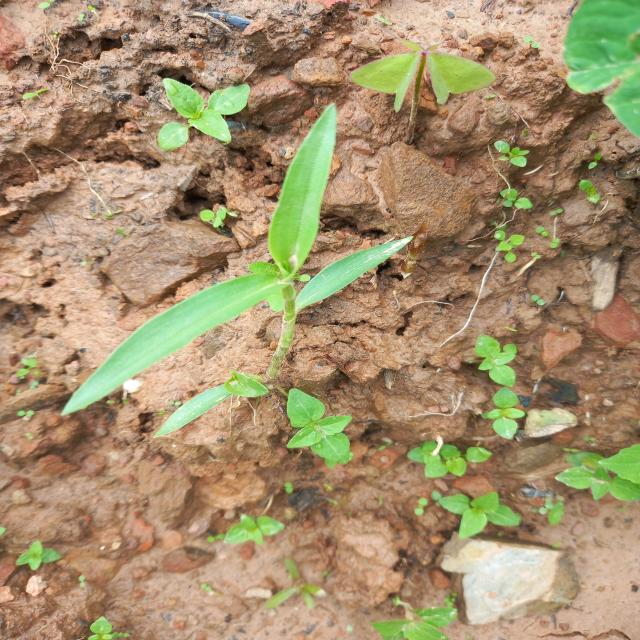maize: (63, 82, 376, 418)
weed: (340, 24, 507, 149), (146, 66, 268, 150), (278, 374, 362, 473), (430, 490, 533, 535), (554, 450, 640, 503), (403, 436, 495, 480), (372, 596, 464, 638), (467, 332, 527, 390), (221, 508, 293, 554), (269, 561, 328, 607), (477, 388, 528, 437), (8, 534, 61, 570), (486, 230, 528, 270), (571, 173, 610, 214), (493, 136, 535, 171), (496, 184, 535, 213), (530, 490, 558, 524), (81, 613, 115, 640), (528, 294, 549, 312), (584, 155, 602, 168)
